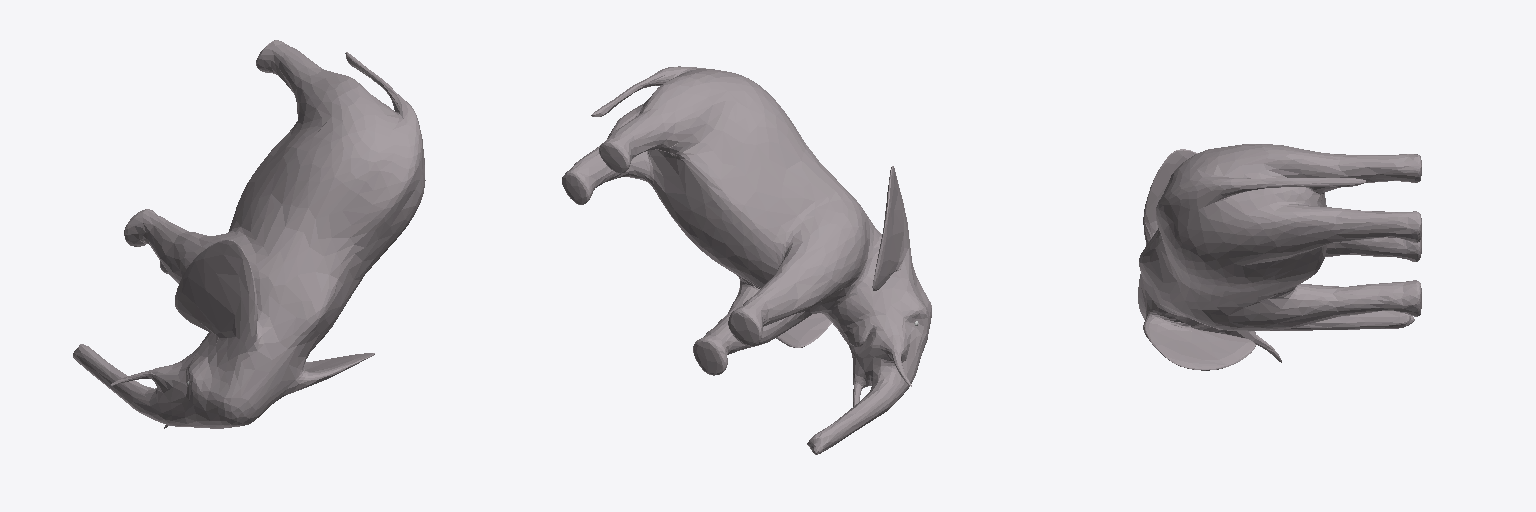
File: tinker.obj
3 views of the same model, side by side, from view 1: azimuth 30°, elevation 25°; view 2: azimuth 150°, elevation 25°; view 3: azimuth 270°, elevation 25° (orthographic).
Parts seen in each view (by area): view 1: obj_0; view 2: obj_0; view 3: obj_0.
Boxes of the visible parts, box(x1,y1,x2,y2) form: obj_0: box(73, 40, 425, 428); obj_0: box(562, 66, 931, 454); obj_0: box(1138, 144, 1421, 370).
Bounding box in the file's own units: 115 × 115 × 97.6.